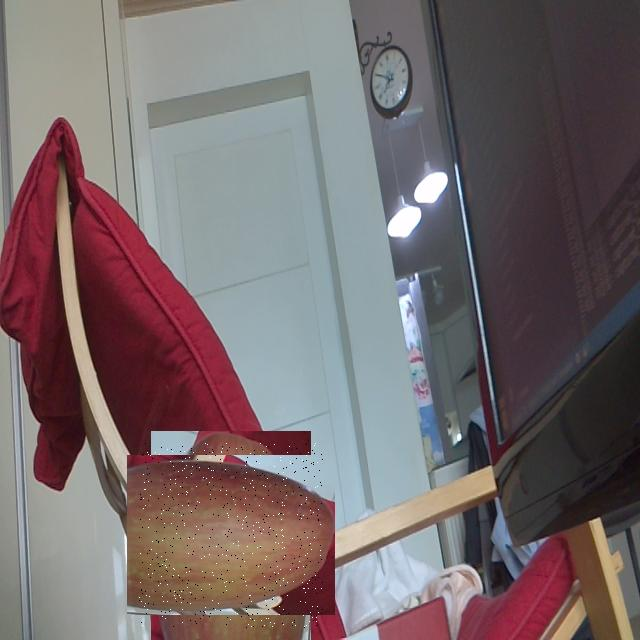apple: (139, 443, 323, 628)
